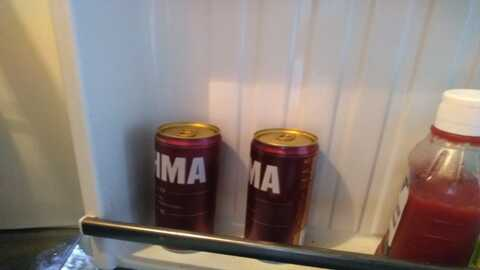duplo_malte: (251, 129, 317, 263), (156, 126, 221, 233)
